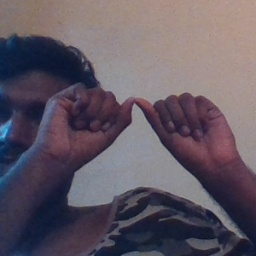A: (73, 78, 201, 166)
